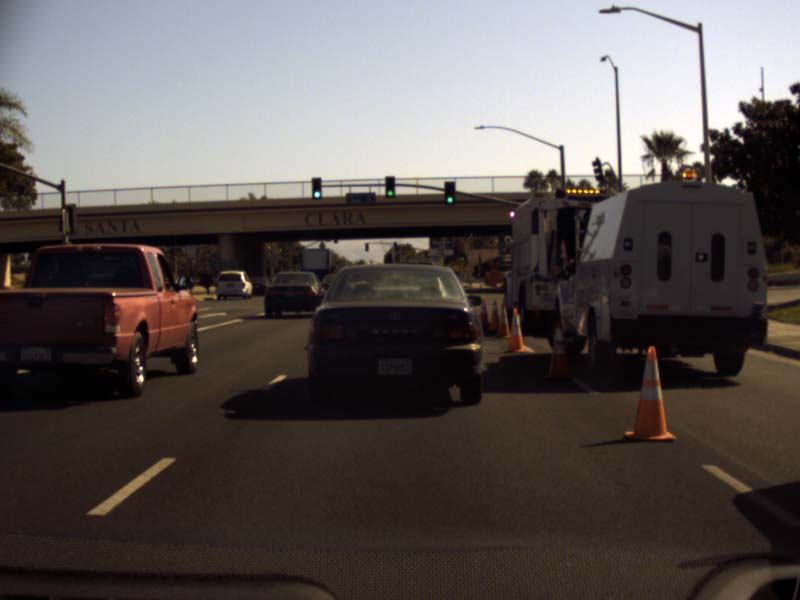Green: (444, 181, 454, 204), (311, 177, 321, 199), (385, 177, 393, 197)
